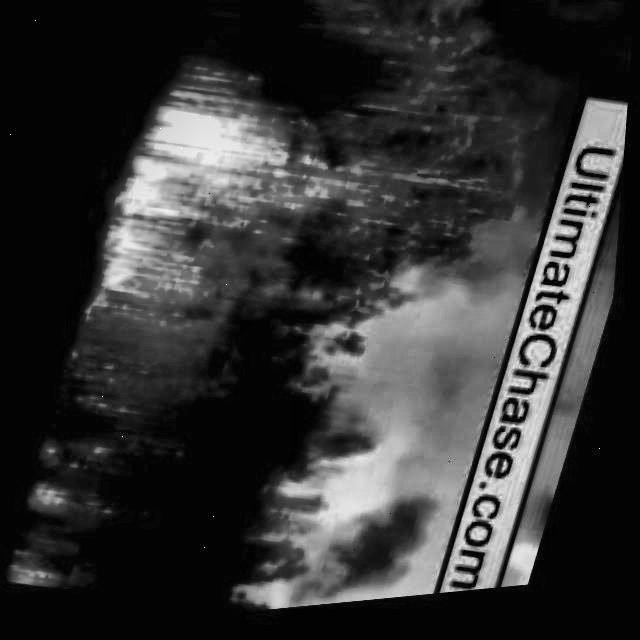Fire: (90, 86, 295, 335), (20, 553, 82, 595), (26, 481, 79, 521)
Smoke: (212, 0, 603, 621), (514, 26, 636, 582)
